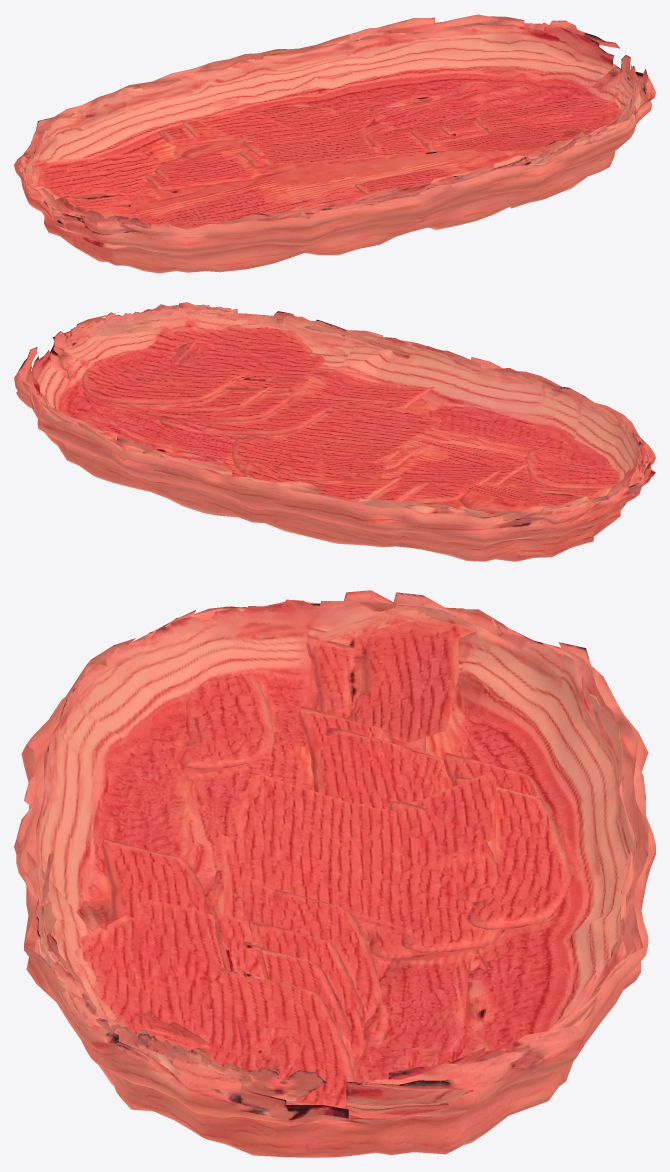
The model's file is s1_gen_basket_red.glb.
3 views of the same model, one above another, from view 1: azimuth 30°, elevation 25°; view 2: azimuth 150°, elevation 25°; view 3: azimuth 270°, elevation 25° (orthographic). The views are drawn at different scales.
Size of the model in its own units: 1.84 by 0.2074 by 1.01.
1 material, 1 textured.
